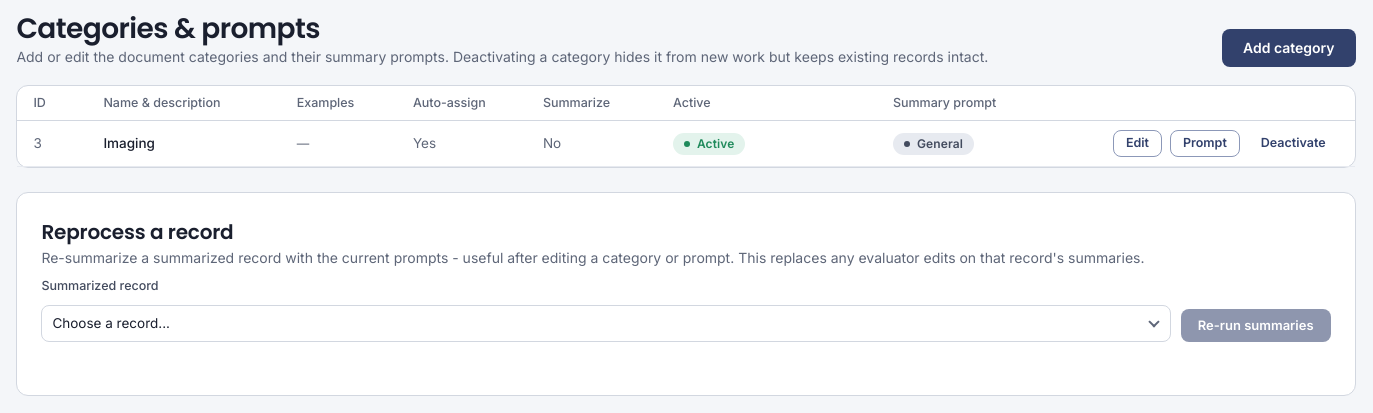
Scenario: AdminView re-run picker › keeps the re-run button disabled until a record is chosen
This screenshot has width=1373, height=413.
Expected: the button "Re-run summaries" is disabled, [1181,309,1331,342]
Select "intake-packet.pdf" in the dropdown labelled "Summarized record": (606, 323) [41,305,1171,342]
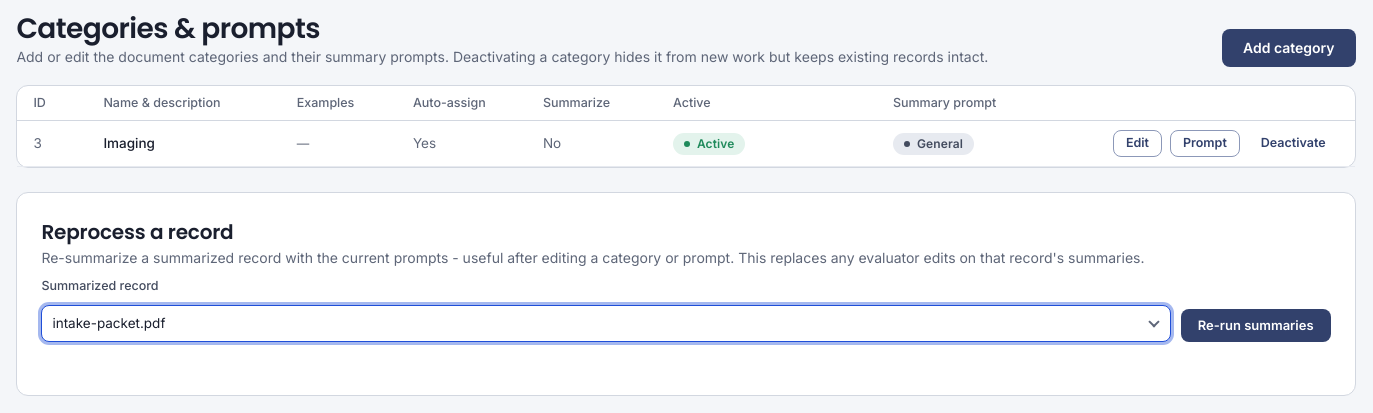
Expected: the button "Re-run summaries" is enabled, [1181,309,1331,342]
